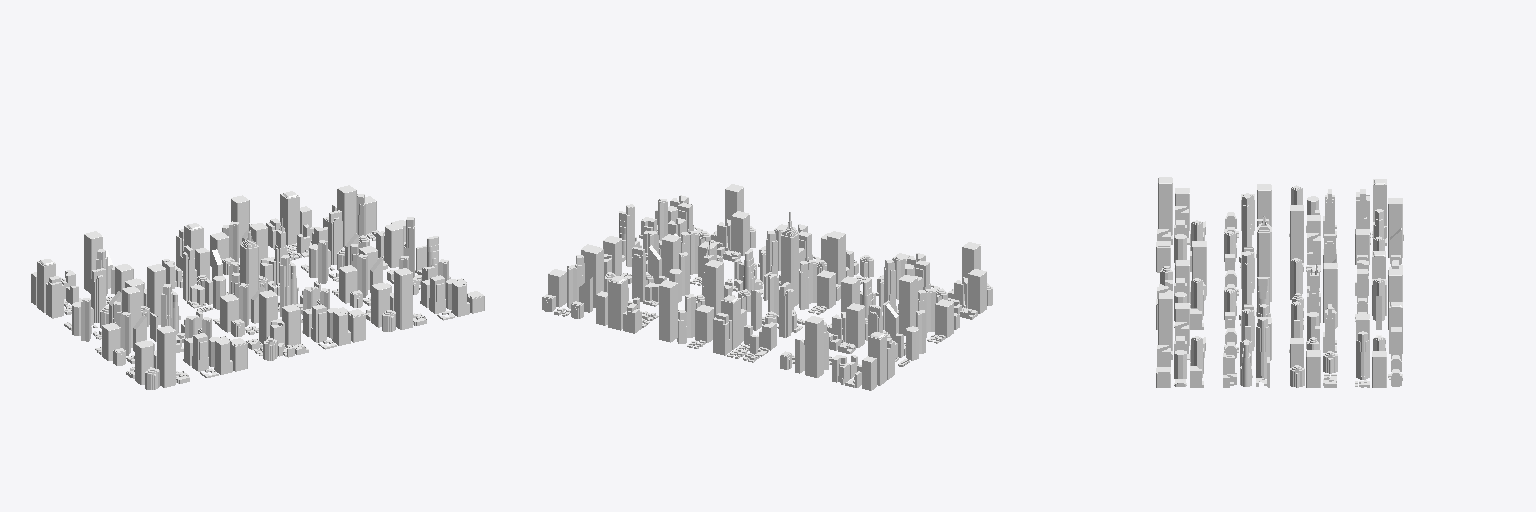
The picture shows the model from 3 angles: view 1: azimuth 30°, elevation 25°; view 2: azimuth 150°, elevation 25°; view 3: azimuth 270°, elevation 25°; orthographic projection.
Visible parts, largest first — view 1: 房子全.2; view 2: 房子全.2; view 3: 房子全.2.
Part boxes in pixels (x1,y1,x2,y2): 房子全.2: (31,185,484,389); 房子全.2: (542,184,992,390); 房子全.2: (1156,177,1403,387).
Size of the model in its own units: 12879 by 3709 by 8232.